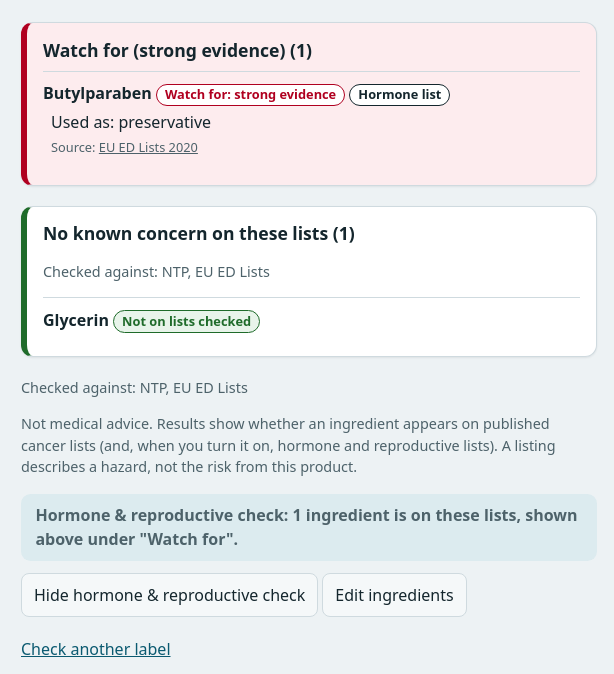
Test: hormone-disruptor check › a product saved with the check on opens with it on, and it can be hidden again
(page scrolled)
Expected: the heading "Watch for (strong evidence) (1)" is shown, [43,38,312,62]
Click the button "Hide hormone & reproductive check": (170, 595) [21,573,318,617]
(page scrolled)
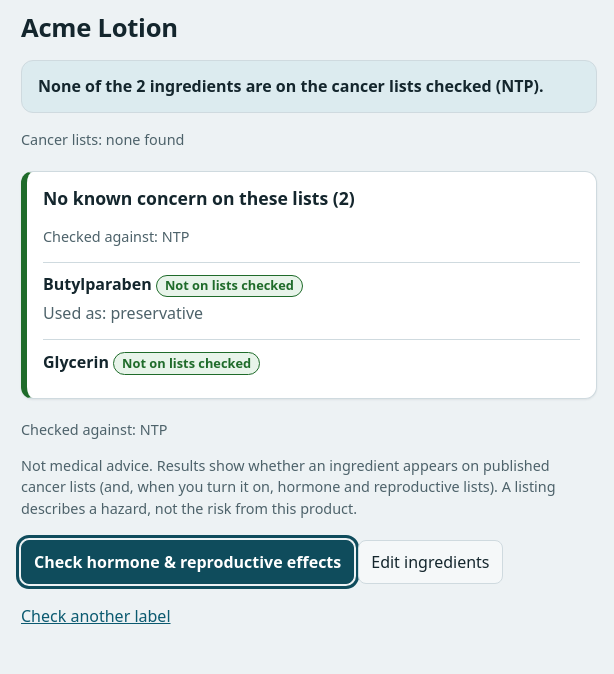
Expected: the heading "Watch for" is gone
